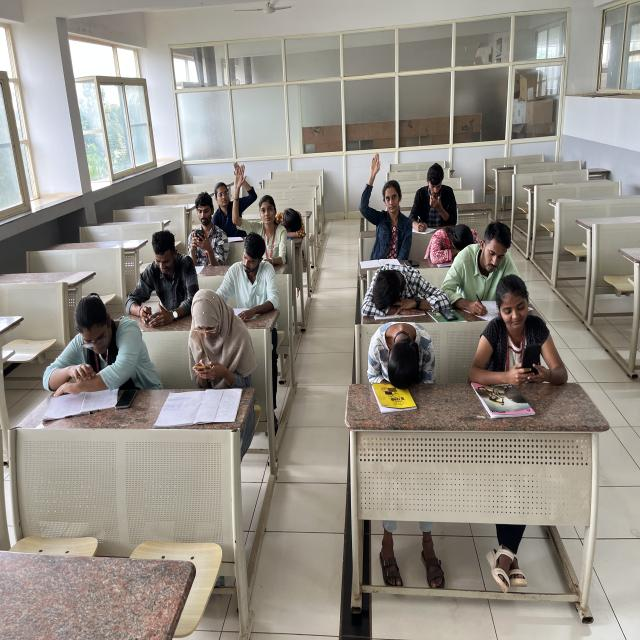Hand Rising: (348, 146, 410, 259), (232, 169, 282, 253), (202, 158, 256, 214)
Reading: (43, 295, 125, 405), (223, 233, 282, 315)
Sleeping: (352, 316, 451, 392), (353, 251, 452, 319), (421, 212, 488, 268), (275, 190, 323, 242)
Using Phone: (489, 289, 571, 392), (176, 287, 254, 376), (124, 238, 194, 326), (168, 187, 228, 270)
Writing: (449, 216, 539, 316), (410, 148, 460, 234)
